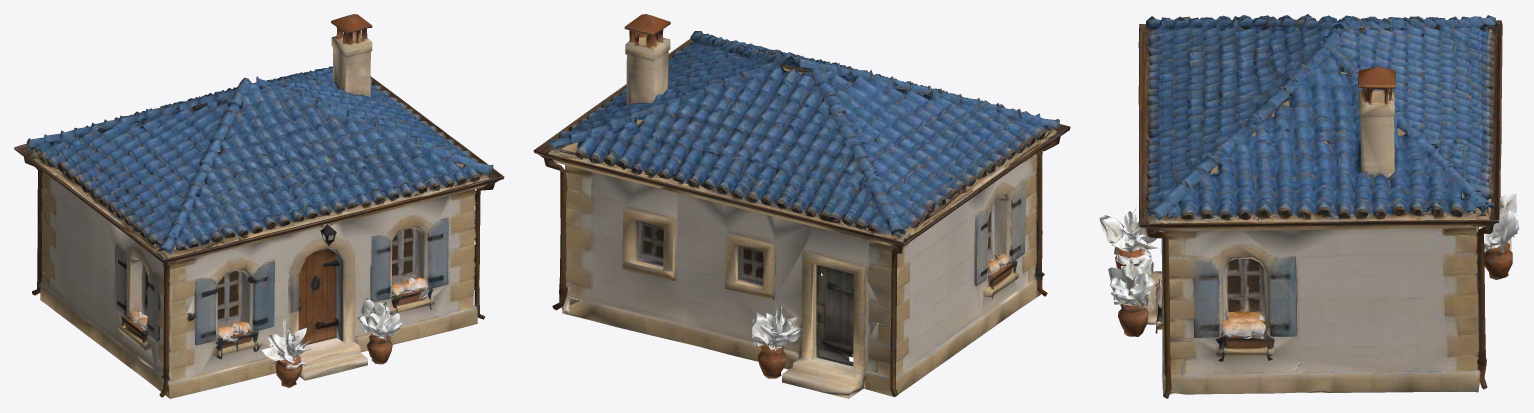
The picture shows the model from 3 angles, left to right: view 1: azimuth 30°, elevation 25°; view 2: azimuth 150°, elevation 25°; view 3: azimuth 270°, elevation 25°; orthographic projection. The views are drawn at different scales.
Visible parts, largest first — view 1: harbor__villa_1__native_mobile; view 2: harbor__villa_1__native_mobile; view 3: harbor__villa_1__native_mobile.
Part boxes in pixels (bbox=[...]): harbor__villa_1__native_mobile: bbox=[14, 14, 504, 398]; harbor__villa_1__native_mobile: bbox=[533, 14, 1070, 398]; harbor__villa_1__native_mobile: bbox=[1099, 14, 1519, 398].
Size of the model in its own units: 1 by 0.7142 by 0.8785.
1 material, 1 textured.
